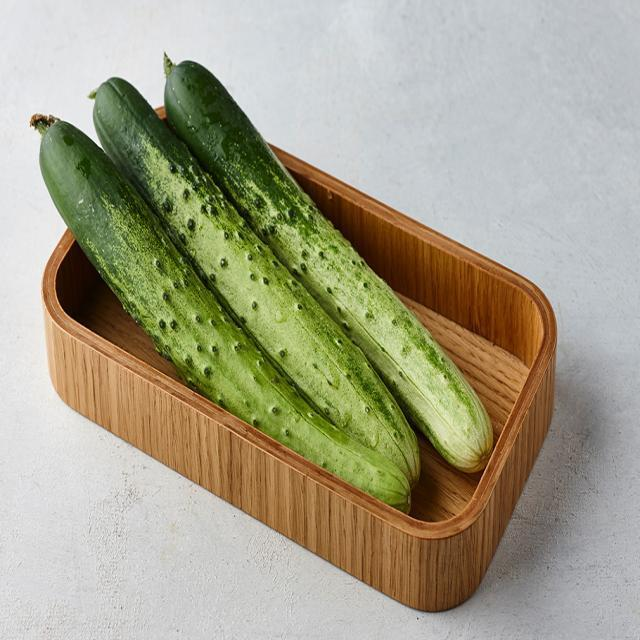cucumber: (19, 50, 504, 521)
